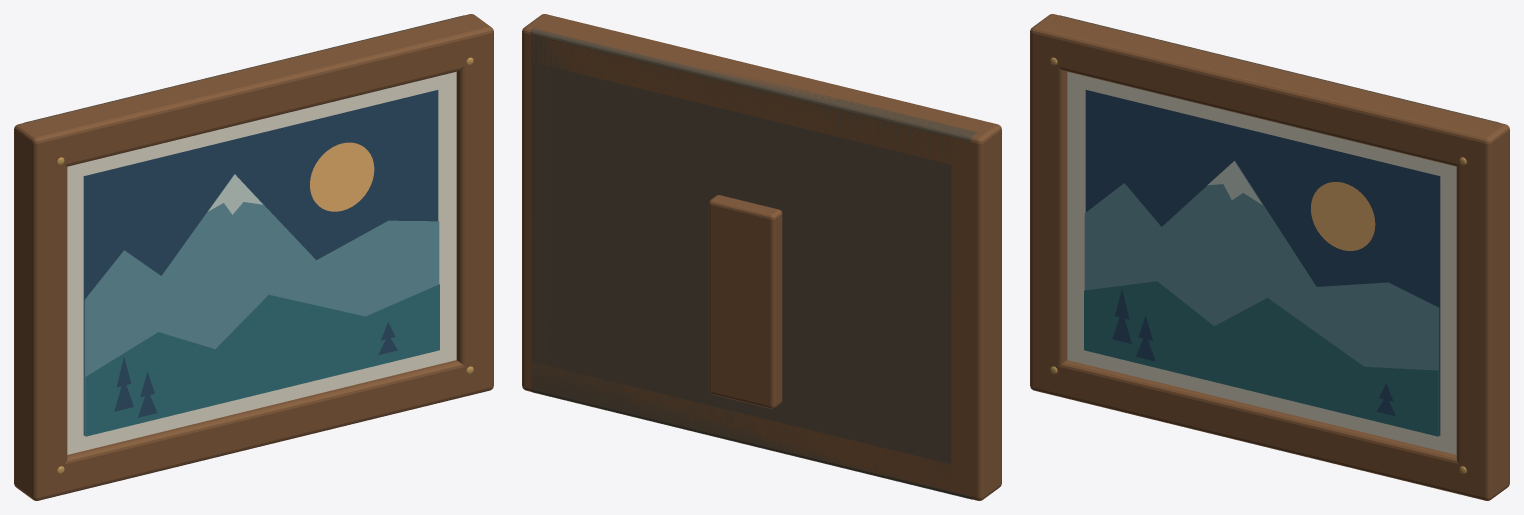
The model's file is MoonFrame.fbx.
3 renders of one model, left to right at view 1: azimuth 30°, elevation 25°; view 2: azimuth 150°, elevation 25°; view 3: azimuth 330°, elevation 25°, orthographic.
Parts seen in each view (by area): view 1: PictureSky, MountainRange, Foreground, TopRail, MatBoard, LeftRail, BottomRail, RightRail, PictureMoon, SnowCap, Backing, Pine; view 2: Backing, TopRail, LeftRail, FoldedStand, BottomRail, RightRail; view 3: PictureSky, MountainRange, Foreground, TopRail, MatBoard, RightRail, BottomRail, LeftRail, PictureMoon, SnowCap, Backing, Pine.
Part boxes in pixels (<box>): PictureSky: <box>83,90,438,435</box>; MountainRange: <box>84,174,439,435</box>; Foreground: <box>85,284,439,436</box>; TopRail: <box>27,16,483,168</box>; MatBoard: <box>67,71,456,454</box>; LeftRail: <box>14,123,67,500</box>; BottomRail: <box>45,360,483,498</box>; RightRail: <box>456,14,493,392</box>; PictureMoon: <box>310,142,374,211</box>; SnowCap: <box>208,174,262,214</box>; Backing: <box>24,15,467,126</box>; Pine: <box>114,357,133,411</box>; Backing: <box>530,26,977,499</box>; TopRail: <box>532,16,989,168</box>; LeftRail: <box>951,122,1001,500</box>; FoldedStand: <box>708,195,782,408</box>; BottomRail: <box>532,362,951,491</box>; RightRail: <box>522,14,552,391</box>; PictureSky: <box>1085,90,1440,435</box>; MountainRange: <box>1084,161,1439,435</box>; Foreground: <box>1084,281,1438,436</box>; TopRail: <box>1040,16,1496,168</box>; MatBoard: <box>1067,71,1456,454</box>; RightRail: <box>1456,122,1509,500</box>; BottomRail: <box>1040,360,1477,498</box>; LeftRail: <box>1030,14,1067,395</box>; PictureMoon: <box>1311,182,1375,250</box>; SnowCap: <box>1207,161,1262,204</box>; Backing: <box>1055,15,1499,126</box>; Pine: <box>1112,289,1131,343</box>.
Bounding box in the file's own units: 37.2 × 28 × 4.69.
